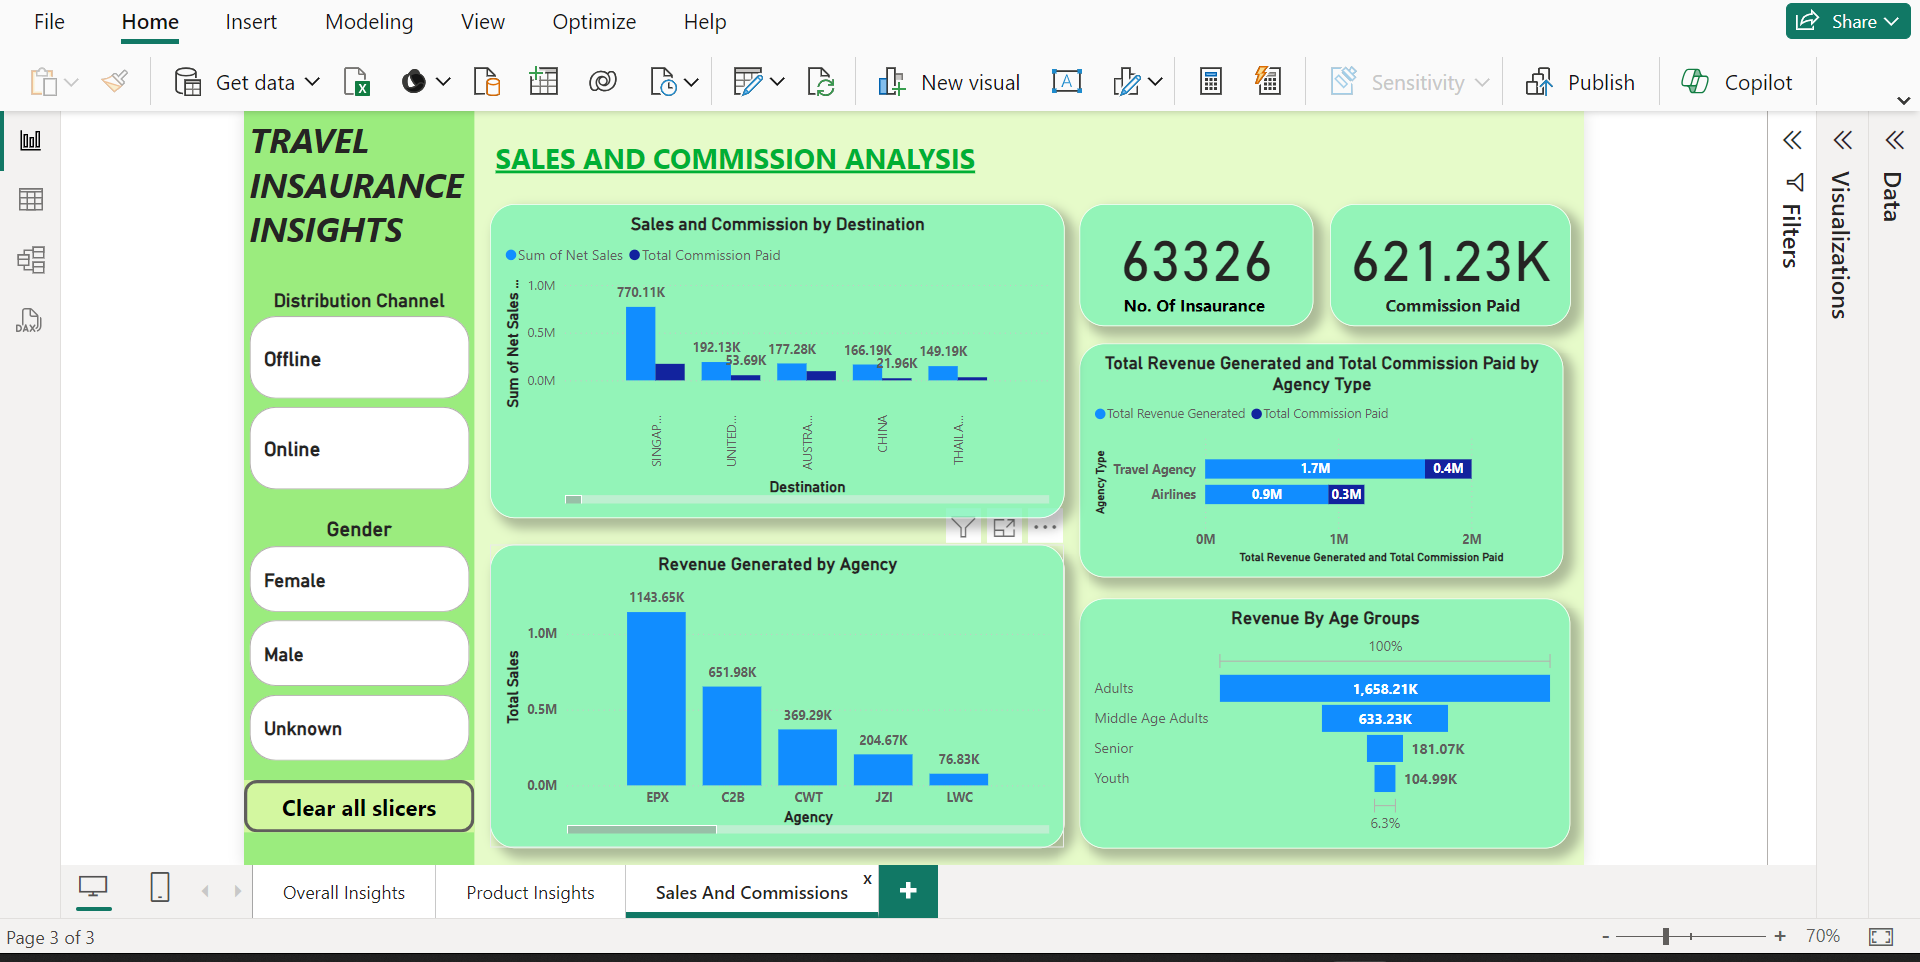

The dashboard page shown, as its layout file describes it:
{"tool":"powerbi","page":{"name":"Sales And Commissions","canvas":[1280,720],"ordinal":2},"visuals":[{"type":"textbox","box":[0,0,220,720],"z":500},{"type":"advancedSlicerVisual","fields":{"Values":["travel insurance dataset.Distribution Channel"]},"box":[0,170,220,196.7],"z":2000},{"type":"barChart","fields":{"Category":["travel insurance dataset.Agency Type"],"Y":["travel insurance dataset.Total Revenue Generated","travel insurance dataset.Total Commission Paid"]},"box":[798.3,221.7,461.7,223.3],"z":5000},{"type":"funnel","title":" Revenue By  Age Groups","fields":{"Category":["travel insurance dataset.Age Groups"],"Y":["travel insurance dataset.Total Revenue Generated"]},"box":[798.3,465,468.3,238.3],"z":6000},{"type":"textbox","box":[0,21.7,13.3,166.7],"z":7000},{"type":"advancedSlicerVisual","fields":{"Values":["travel insurance dataset.Gender"]},"box":[0,388.3,220,238.3],"z":7001},{"type":"actionButton","box":[0,638.3,220,50],"z":7002},{"type":"columnChart","title":" Revenue Generated by Agency","fields":{"Category":["travel insurance dataset.Agency"],"Y":["travel insurance dataset.Total Revenue Generated"]},"box":[235,413.3,548.3,290],"z":7003},{"type":"textbox","box":[235,21.7,481.7,66.7],"z":7004},{"type":"clusteredColumnChart","title":"Sales and  Commission  by Destination","fields":{"Category":["travel insurance dataset.Destination"],"Y":["Sum(travel insurance dataset.Net Sales)","travel insurance dataset.Total Commission Paid"]},"box":[235,88.3,548.3,300],"z":7005},{"type":"card","fields":{"Values":["travel insurance dataset.No. Of Insaurance Purchased"]},"box":[798.3,88.3,223.3,116.7],"z":7006},{"type":"card","fields":{"Values":["travel insurance dataset.Total Commission Paid"]},"box":[1036.7,88.3,230,116.7],"z":7007}]}

Visuals, with their boxes on the page's 1280x720 design canvas (x1, y1, x2, y2). These are canvas units, not pixel positions in the 1920x962 screenshot, which may show the page scaled, cropped or inside an application window:
textbox: region(0, 0, 220, 720)
advancedSlicerVisual - travel insurance dataset.Distribution Channel: region(0, 170, 220, 367)
barChart - travel insurance dataset.Agency Type x travel insurance dataset.Total Revenue Generated: region(798, 222, 1260, 445)
" Revenue By  Age Groups" funnel: region(798, 465, 1267, 703)
textbox: region(0, 22, 13, 188)
advancedSlicerVisual - travel insurance dataset.Gender: region(0, 388, 220, 627)
actionButton: region(0, 638, 220, 688)
" Revenue Generated by Agency" columnChart: region(235, 413, 783, 703)
textbox: region(235, 22, 717, 88)
"Sales and  Commission  by Destination" clusteredColumnChart: region(235, 88, 783, 388)
card - travel insurance dataset.No. Of Insaurance Purchased: region(798, 88, 1022, 205)
card - travel insurance dataset.Total Commission Paid: region(1037, 88, 1267, 205)
